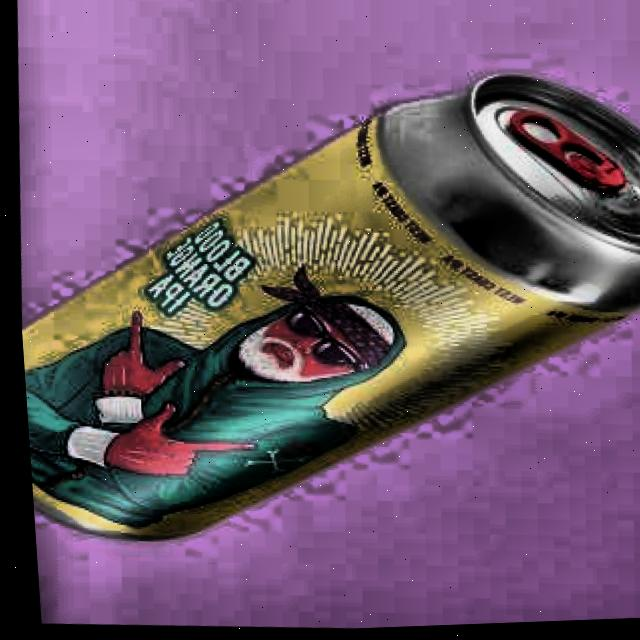metal: (3, 32, 640, 580)
